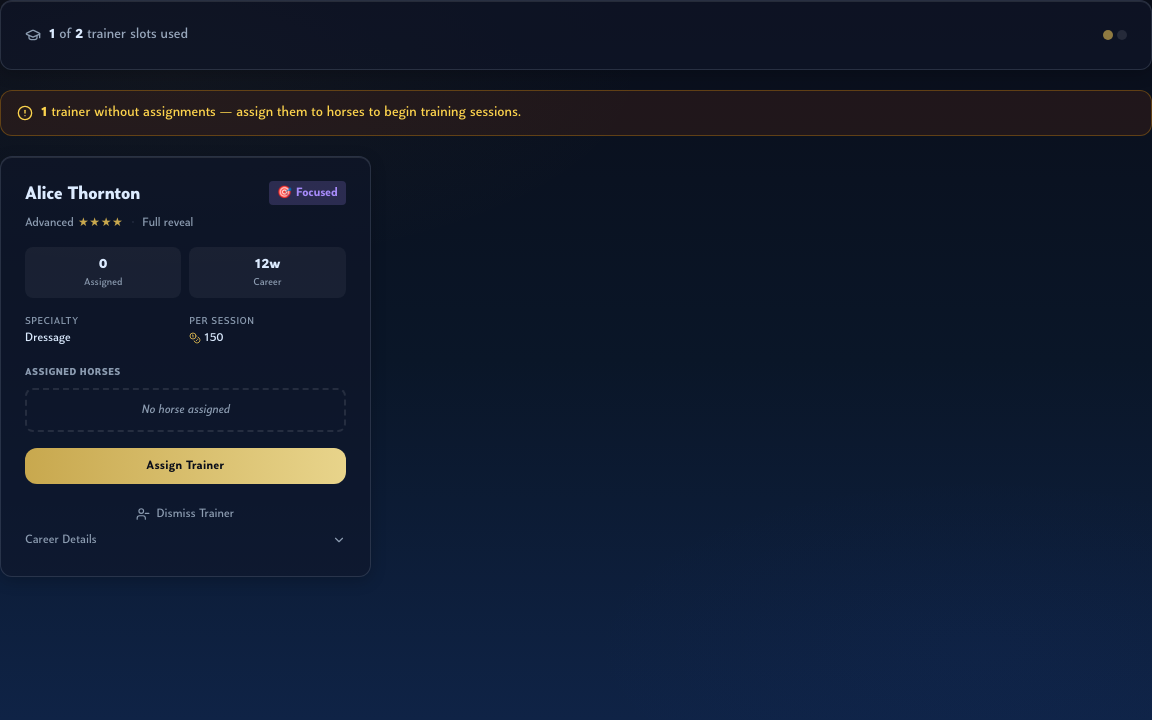
it: MyTrainersDashboard — silent-mutation feedback (Equoria-u96fm) › a failed assign shows an announced error beside the control (no raw server leak)
Expected: the element with test id "trainer-grid" is shown, [0,156,371,577]
Open the horse-picker modal for trainer 10, then pick the (only) horse.
Click the button with test id "assign-button-10" at (185, 466), box [25,448,346,484]
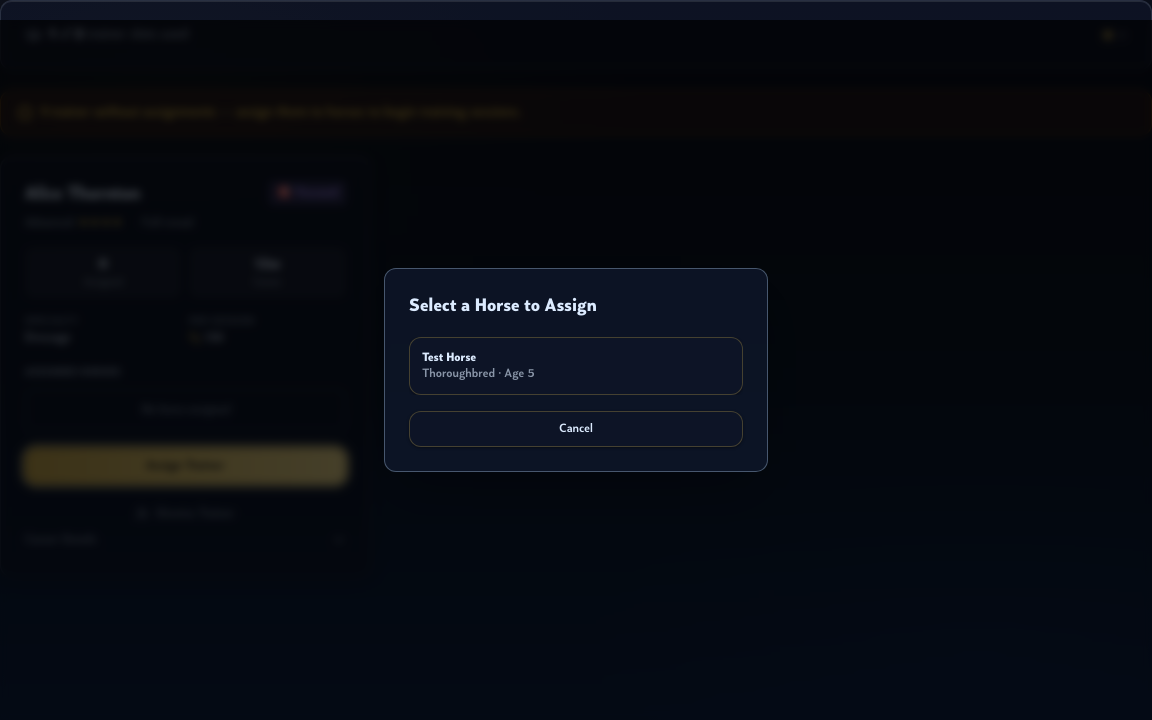
Click the button "Test Horse Thoroughbred · Age 5" at (449, 358), box [409,337,743,395]
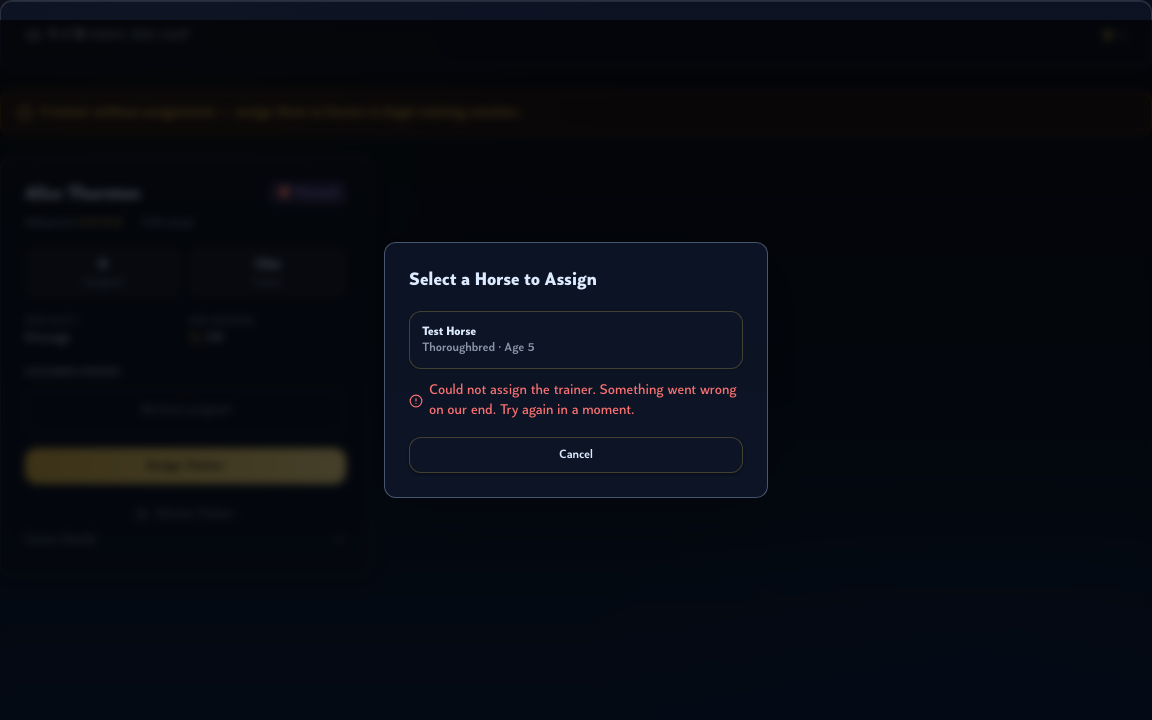
Expected: the text "Could not assign the trainer" is shown, [429,383,737,418]
